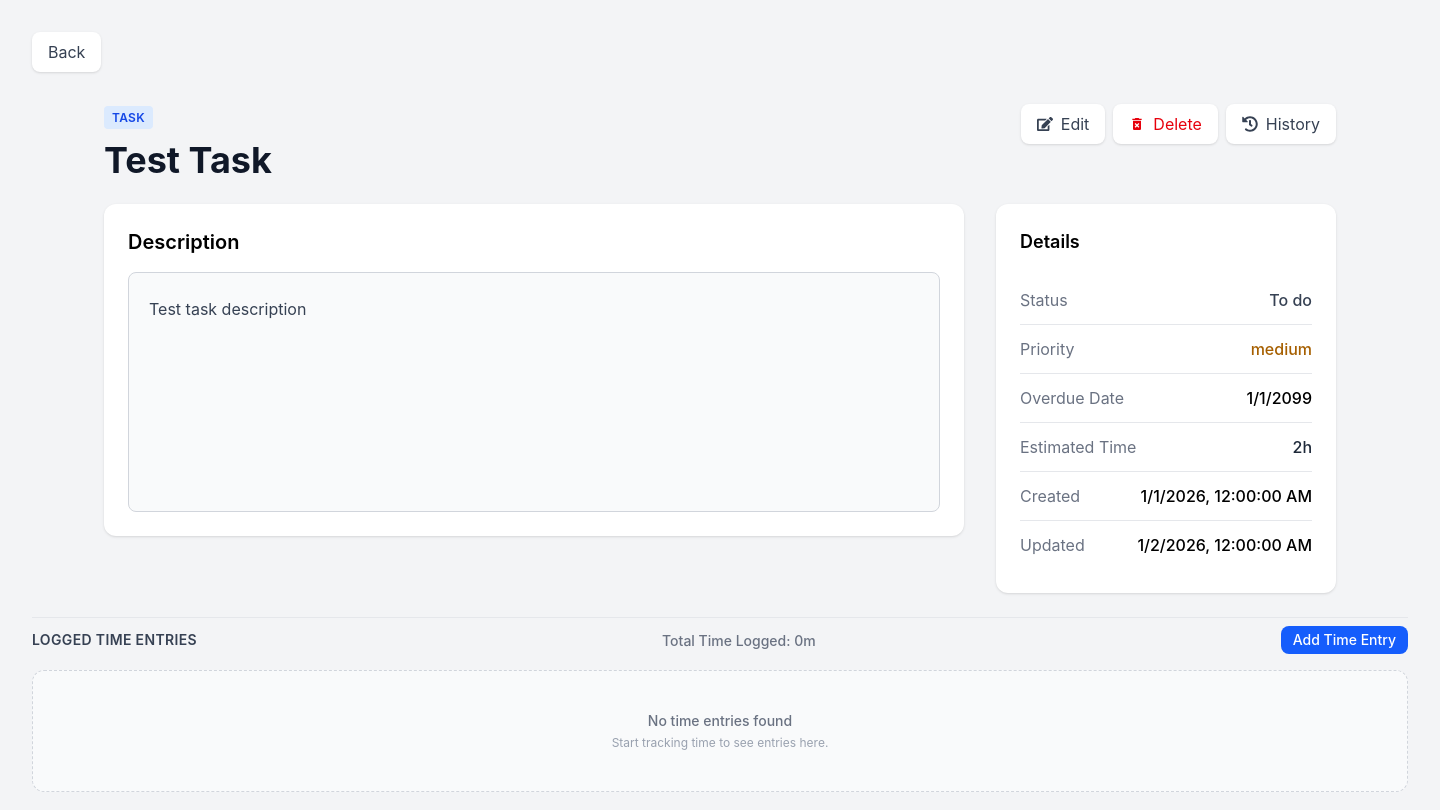
it: TaskPage › edit task › should close the edit modal
Expected: the heading "Test Task" is shown, x1=104 y1=140 x2=272 y2=180
What coordinates should you click on to do the following:
click the button "Edit"
I would click on:
 (1063, 124)
Its box is x1=1021 y1=104 x2=1105 y2=144.
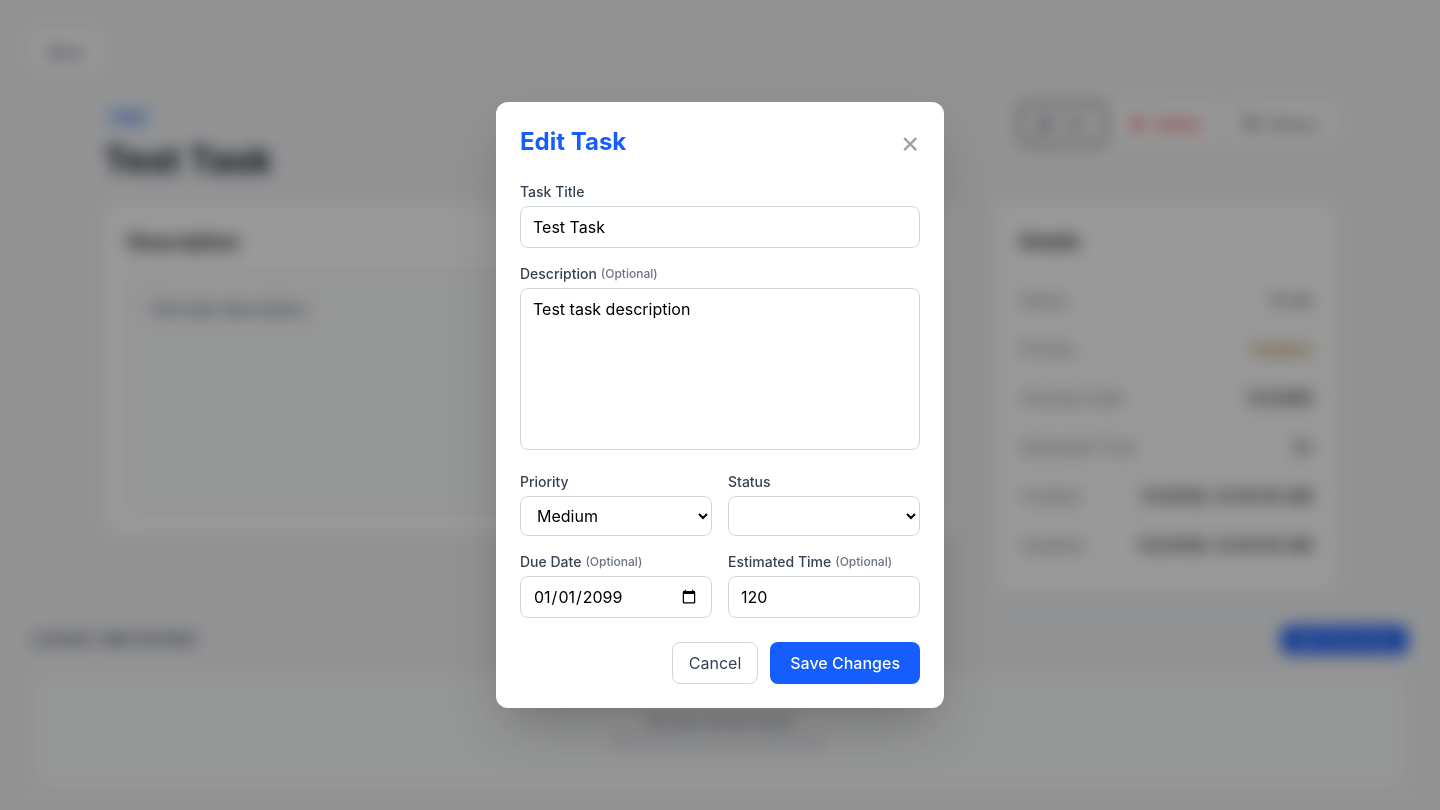
What coordinates should you click on to do the following:
click the button "Cancel"
I would click on:
 (715, 663)
Its box is x1=672 y1=642 x2=758 y2=684.
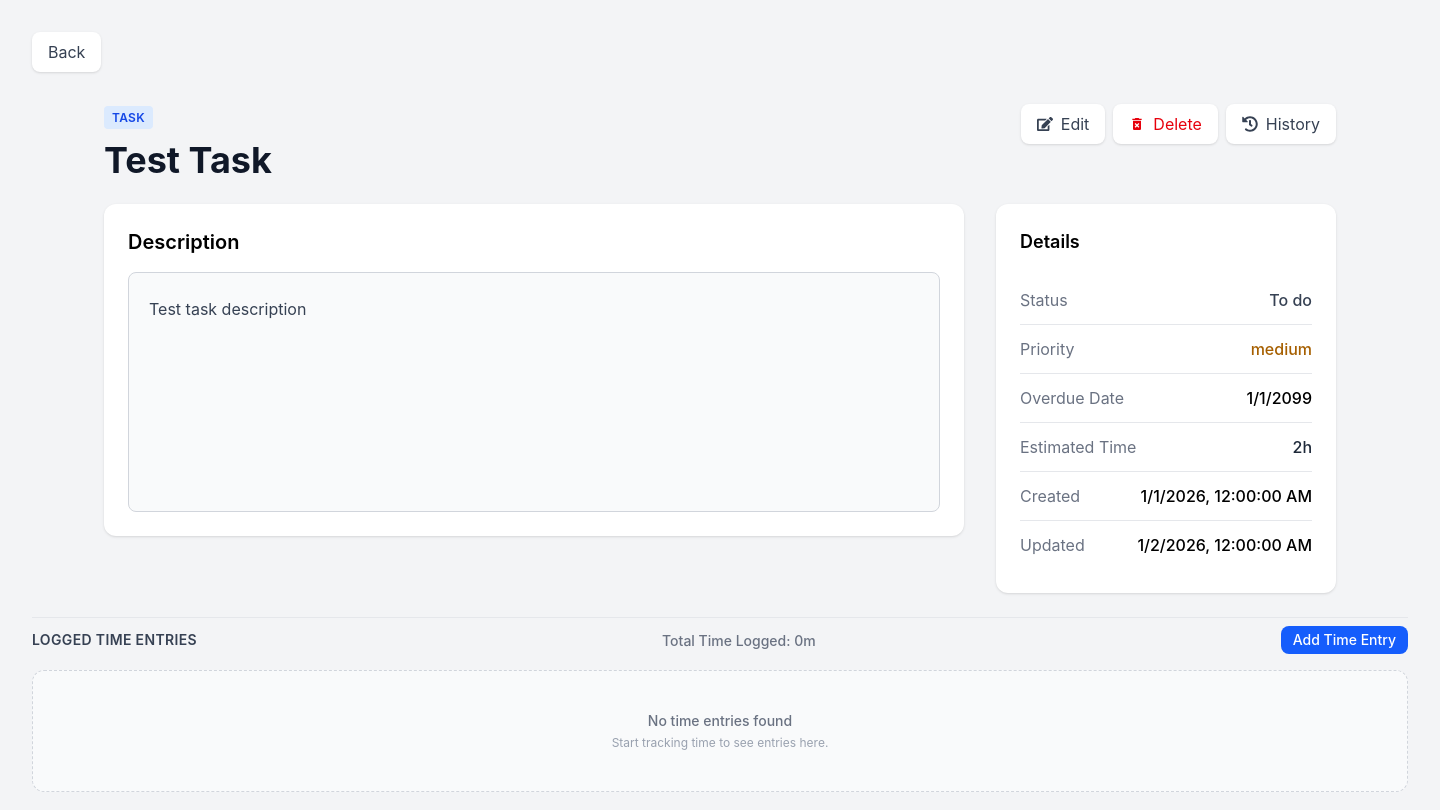
Result: the heading "Edit Task" is gone
